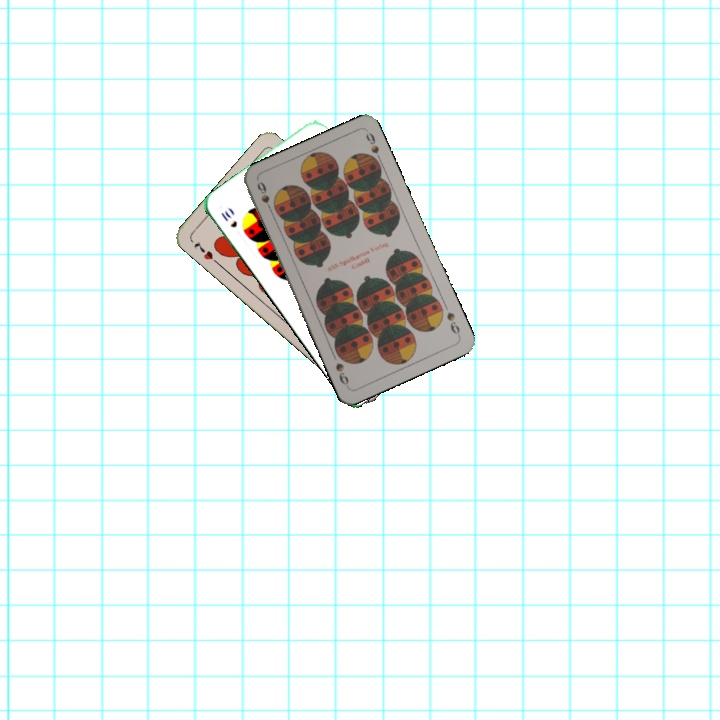H7: (190, 238, 221, 267)
S10: (217, 206, 240, 230)
S9: (253, 177, 276, 217), (442, 308, 463, 339)
